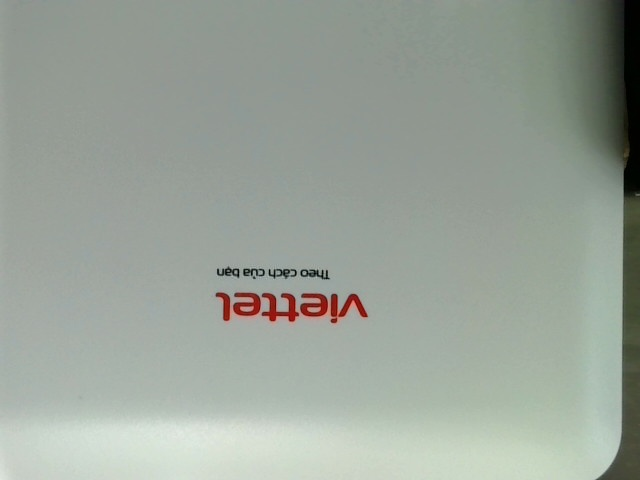AY_Viettel: (207, 261, 384, 328)
